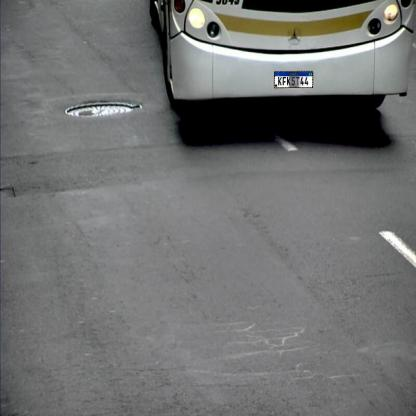PlacaM: (274, 71, 313, 88)
